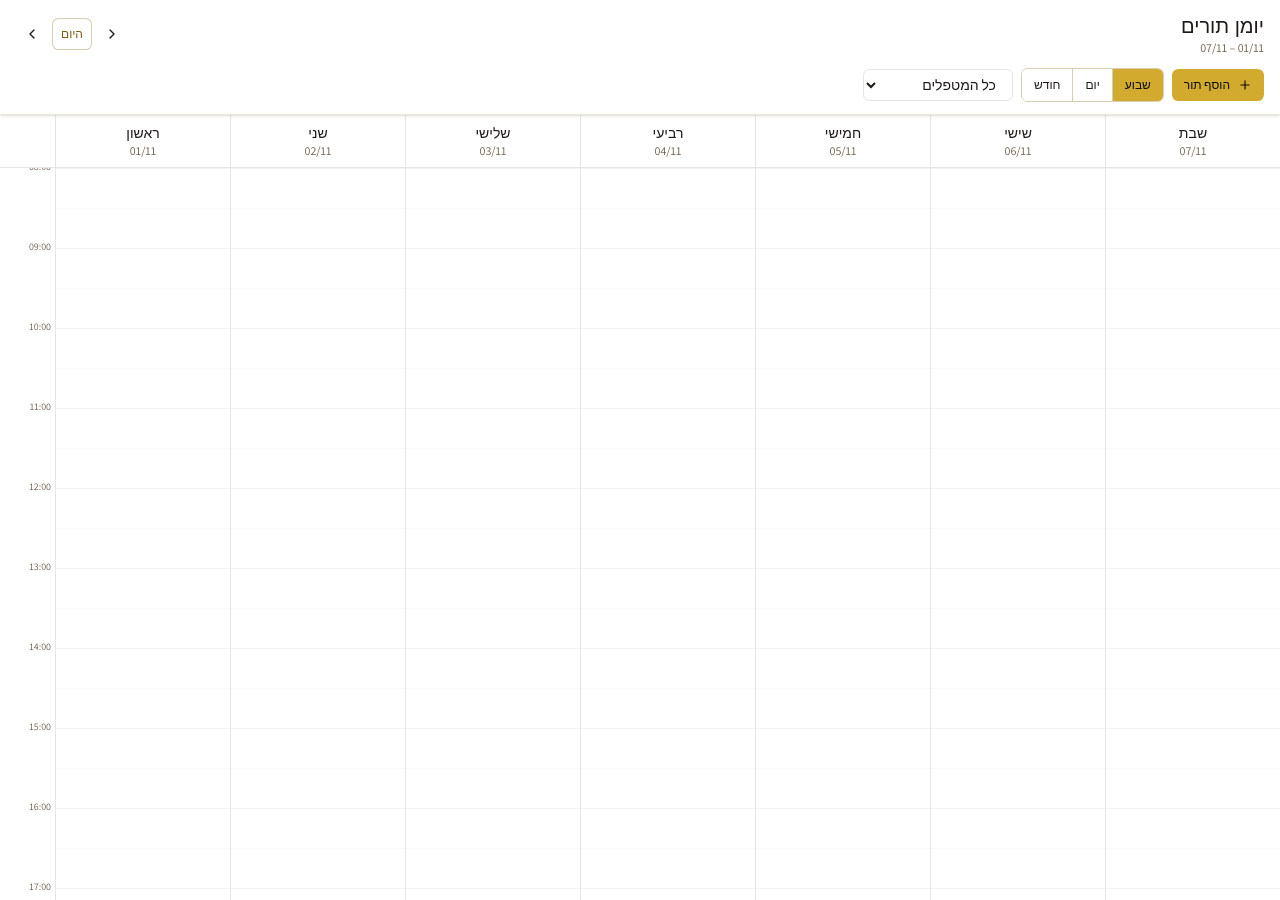
Test: NewAppointmentDialog — auto-fill end time from treatment duration › שינוי שעת ההתחלה כשטיפול נבחר מחשב מחדש את שעת הסיום
Click the button with aria-label "פתח דיאלוג הוספת תור חדש" at (1218, 85), box x1=1172 y1=69 x2=1264 y2=101
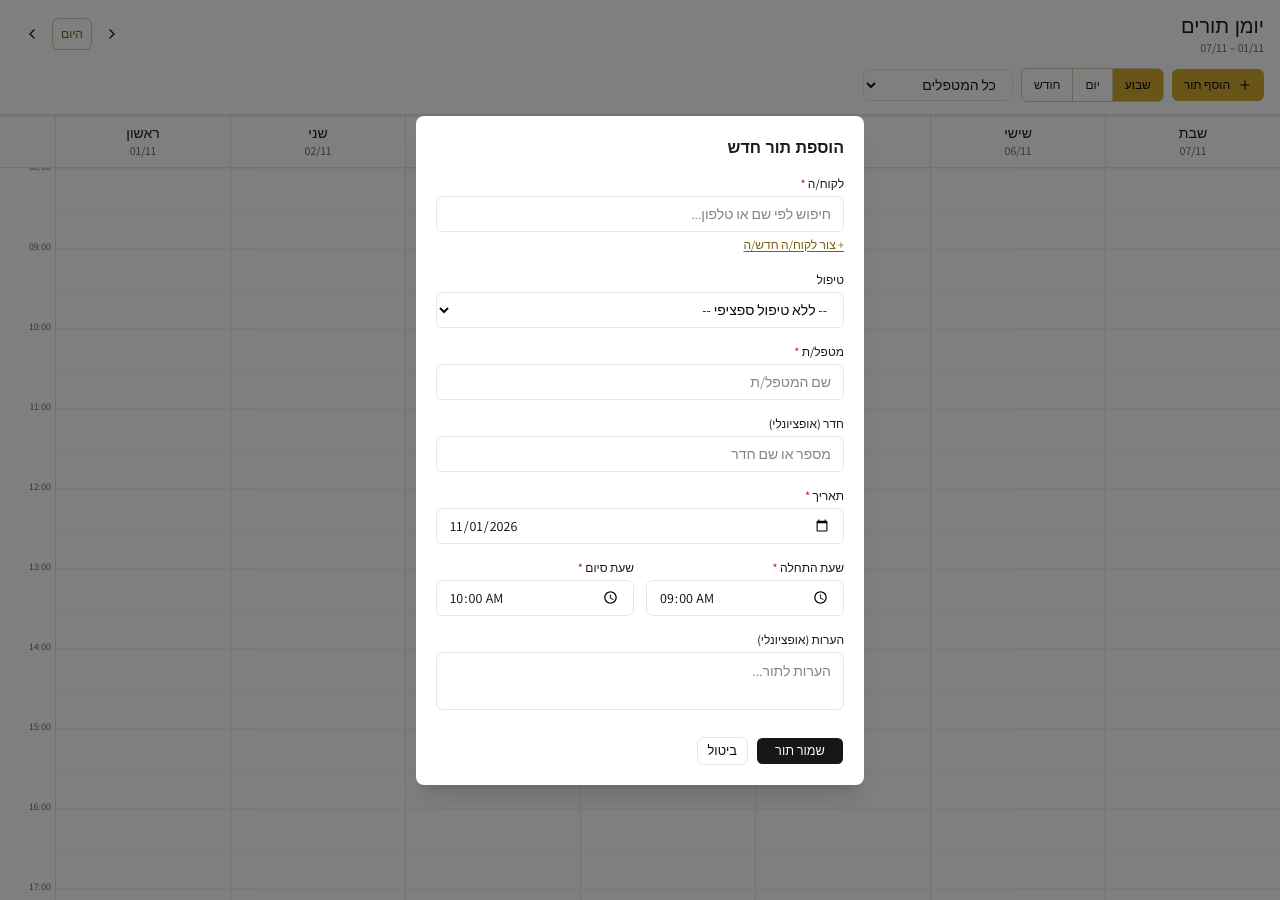
Select "טיפול פנים (45 דק')" in the dropdown labelled "טיפול" at (640, 310), box x1=436 y1=292 x2=844 y2=328
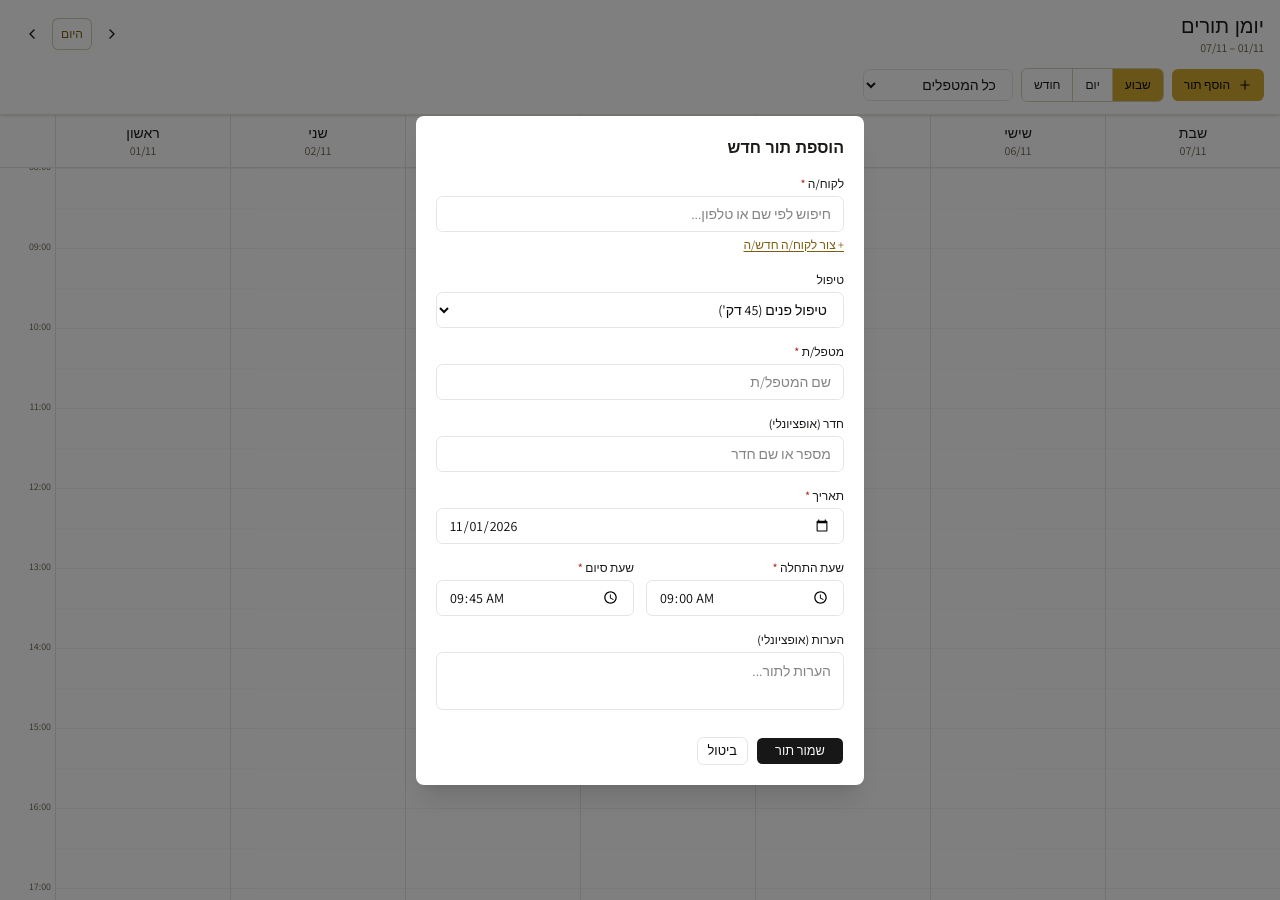
Now the time field labelled "שעת סיום *" holds "09:45", box x1=436 y1=580 x2=634 y2=616
Replace the text in the time field labelled "שעת התחלה *" with "13:00" at (745, 598), box x1=646 y1=580 x2=844 y2=616
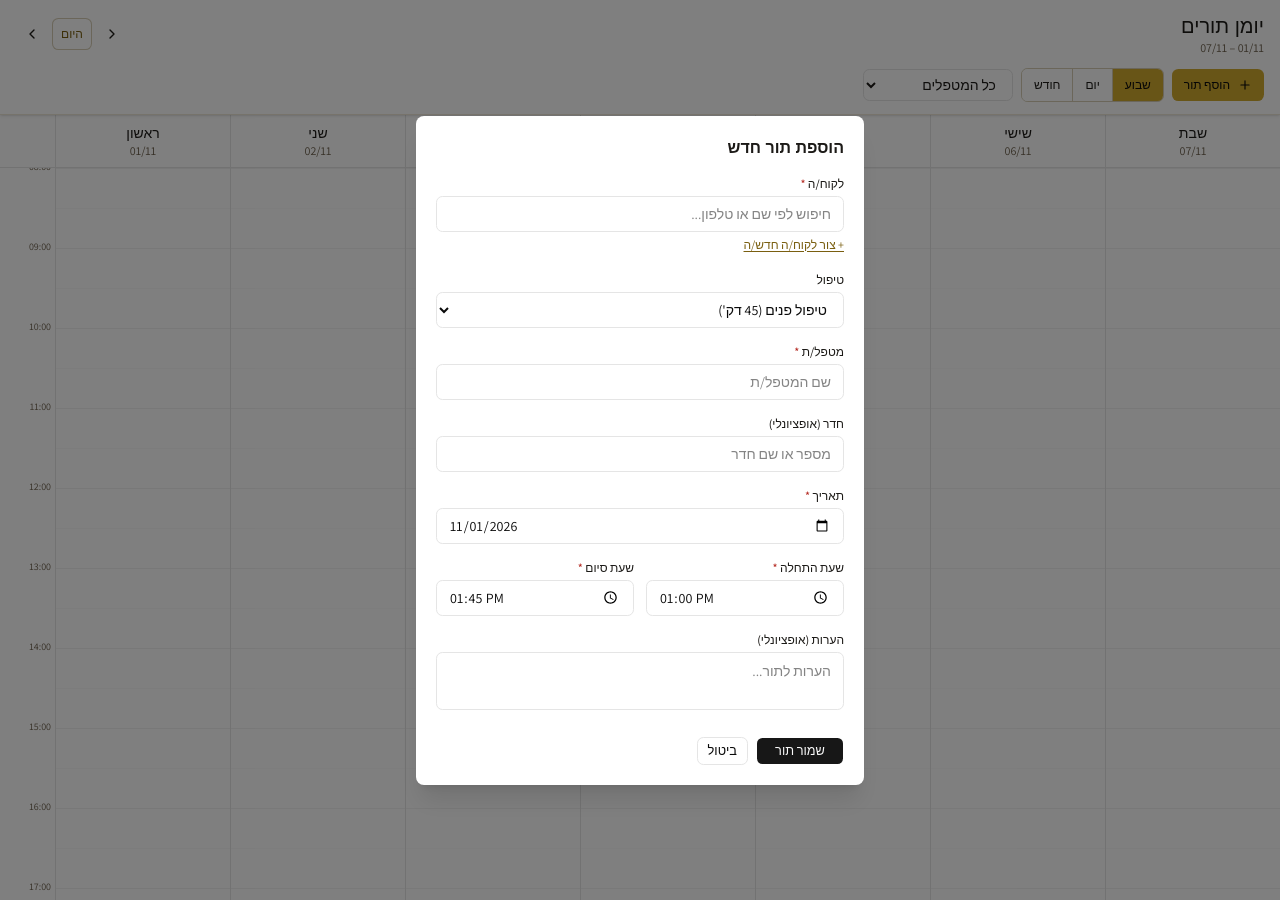
Now the time field labelled "שעת סיום *" holds "13:45", box x1=436 y1=580 x2=634 y2=616
